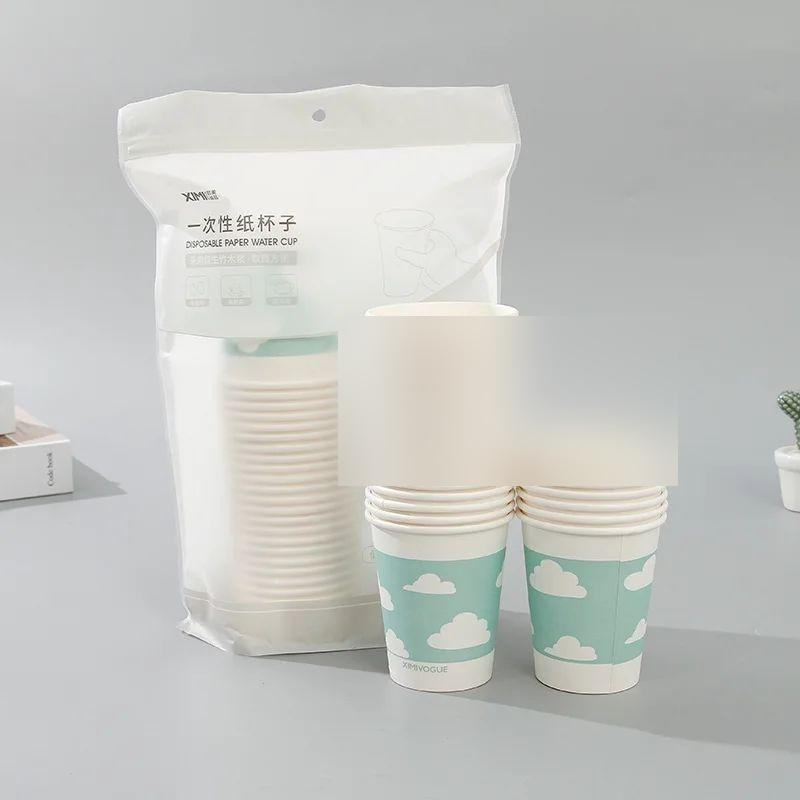cup-disposable: (365, 505, 521, 698), (516, 509, 665, 698)
